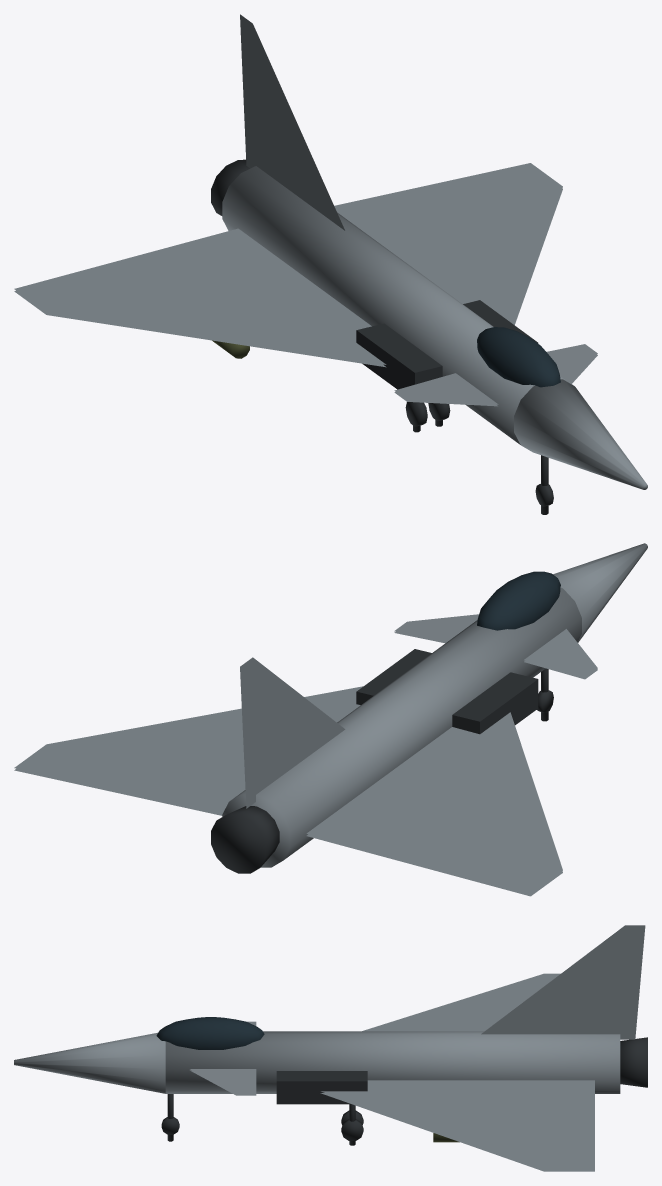
Rendered from jet.glb.
The picture shows the model from 3 angles, top to bottom: view 1: azimuth 30°, elevation 25°; view 2: azimuth 150°, elevation 25°; view 3: azimuth 270°, elevation 25°; orthographic projection. The views are drawn at different scales.
Parts seen in each view (by area): view 1: Body; view 2: Body; view 3: Body.
Part boxes in pixels (left/top/right/bottom): Body: left=14, top=14, right=647, bottom=514; Body: left=14, top=543, right=647, bottom=896; Body: left=14, top=925, right=647, bottom=1171.
Size of the model in its own units: 9.2 by 4.7 by 12.55.
